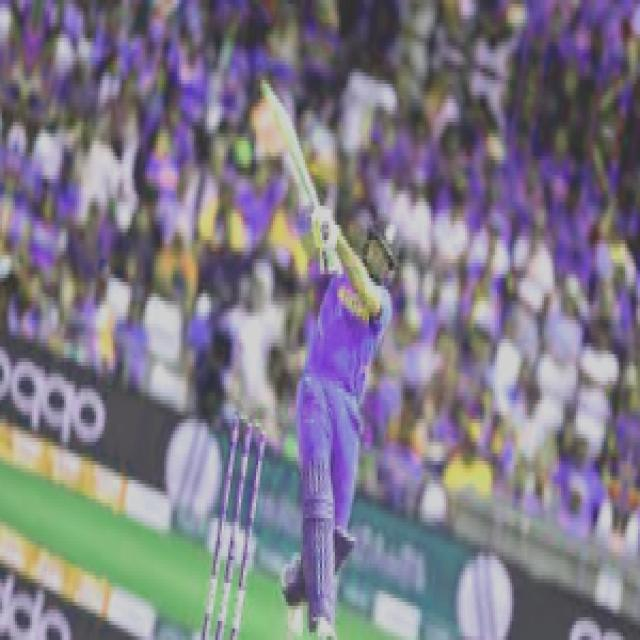toe: (259, 70, 275, 104)
